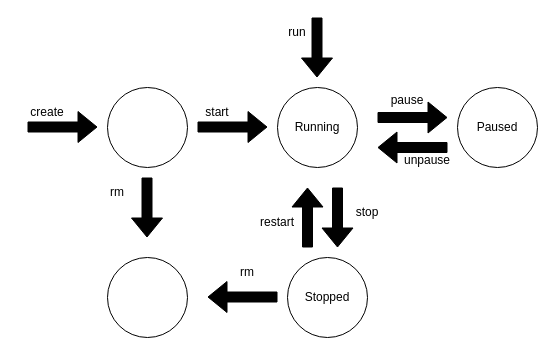
This 555x355 diagram has some shape labels left out. The shapes that lost their labels are listed below. From the top down, each one's centre as x and y in pixels, then its label:
(147,127): Created
(147,297): Deleted
